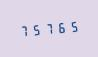five: (30, 21, 41, 37), (66, 18, 77, 34)
seven: (18, 22, 29, 38), (42, 20, 53, 36)
six: (54, 19, 65, 35)
